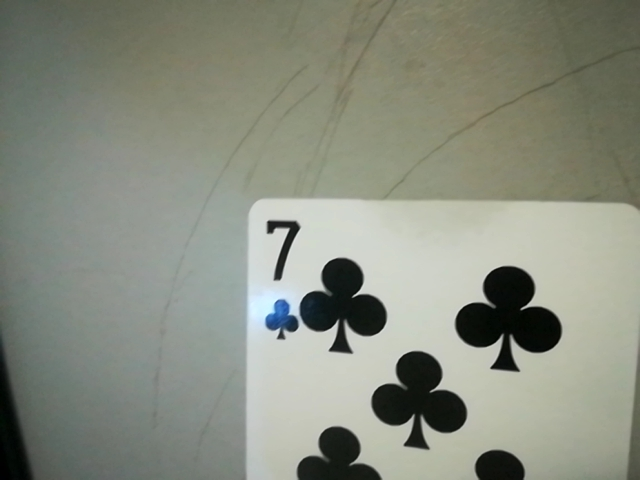mh 7: (248, 212, 301, 352)
